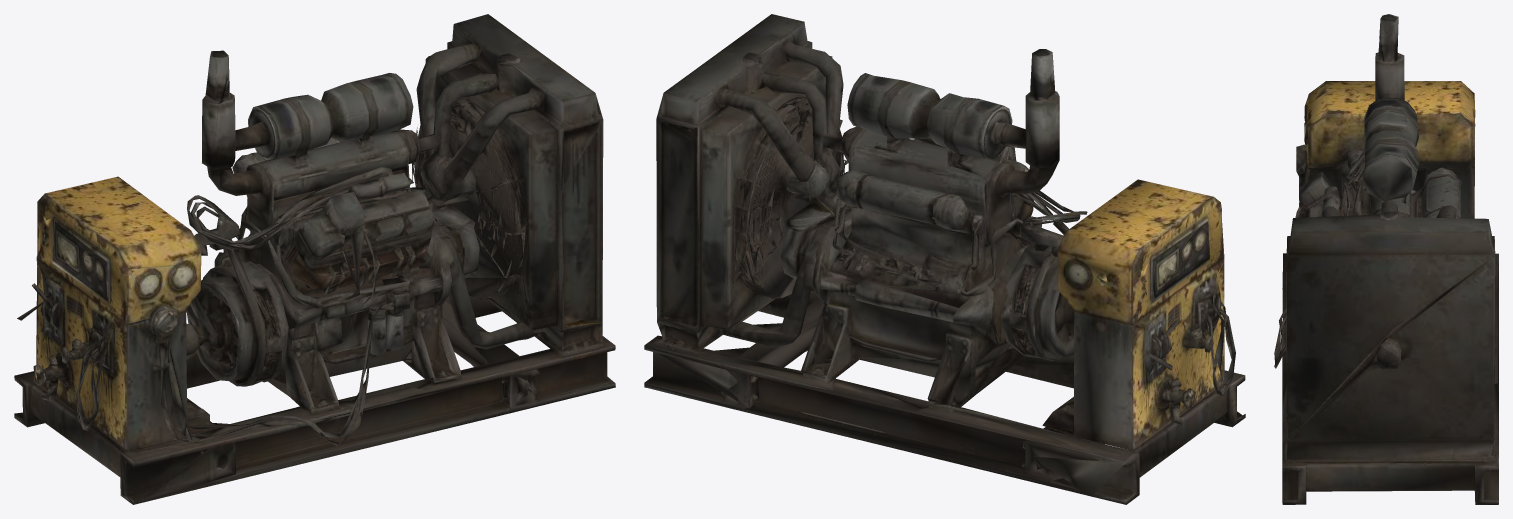
File: generator.glb
3 renders of one model, left to right at view 1: azimuth 30°, elevation 25°; view 2: azimuth 150°, elevation 25°; view 3: azimuth 270°, elevation 25°, orthographic. The views are drawn at different scales.
Parts seen in each view (by area): view 1: Mesh_0; view 2: Mesh_0; view 3: Mesh_0.
Boxes of the visible parts, x1,y1,x2,y2 form: Mesh_0: [14, 14, 615, 504]; Mesh_0: [644, 14, 1245, 504]; Mesh_0: [1274, 14, 1498, 504].
Size of the model in its own units: 1.9 by 1.29 by 0.7804.
Materials: 1 (1 with a texture image).
